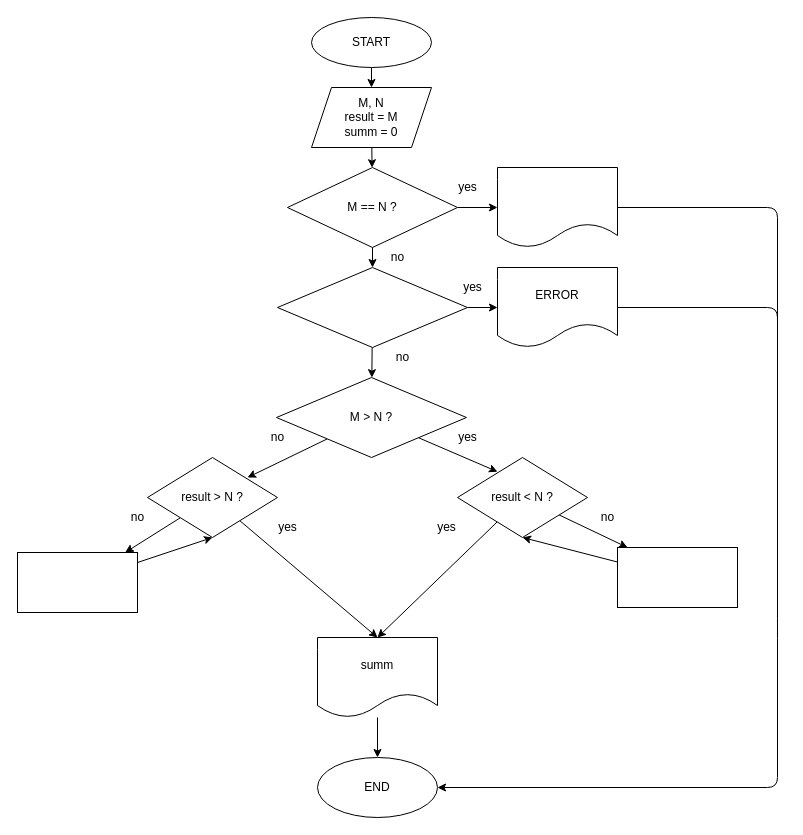
Some shapes in this 803 by 835 pixel diagram are drawn without their labels. Each missing label, with the centre of its shape:
"M < 0 & N < 0 ?" belongs at (x=372, y=307).
"NOTHING" belongs at (x=557, y=207).
"summ += result result = result - 1" belongs at (x=677, y=577).
"summ += result result++" belongs at (x=77, y=582).
